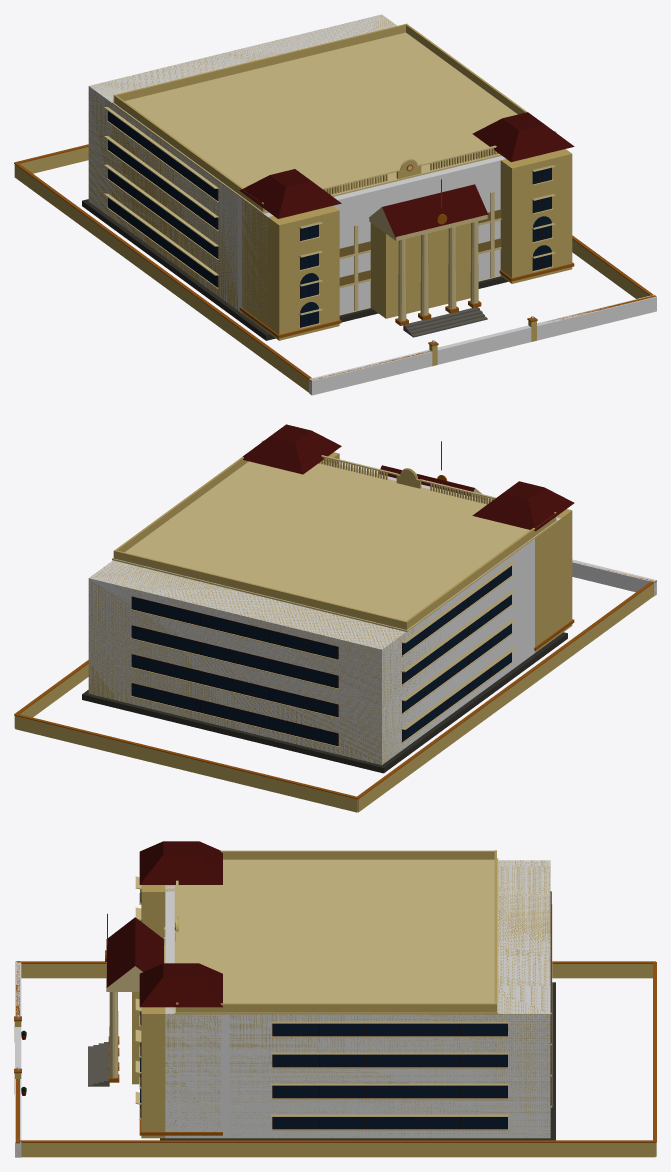
File: B18_college_inst.glb
The picture shows the model from 3 angles, top to bottom: view 1: azimuth 30°, elevation 25°; view 2: azimuth 150°, elevation 25°; view 3: azimuth 270°, elevation 25°; orthographic projection. The views are drawn at different scales.
Visible parts, largest first — view 1: LOD0, COL_Main, COL_Compound; view 2: LOD0, COL_Main, COL_Compound; view 3: LOD0, COL_Main, COL_Compound.
Boxes of the visible parts, bbox=[...] form: LOD0: bbox=[14, 15, 656, 392]; COL_Main: bbox=[88, 14, 505, 322]; COL_Compound: bbox=[309, 295, 656, 395]; LOD0: bbox=[14, 424, 656, 812]; COL_Main: bbox=[88, 461, 560, 764]; COL_Compound: bbox=[572, 559, 656, 596]; LOD0: bbox=[14, 841, 656, 1157]; COL_Main: bbox=[165, 860, 550, 1138]; COL_Compound: bbox=[15, 961, 21, 1157].
Size of what is drawn, in the model's own units: 40.08 by 16.3 by 60.06.
